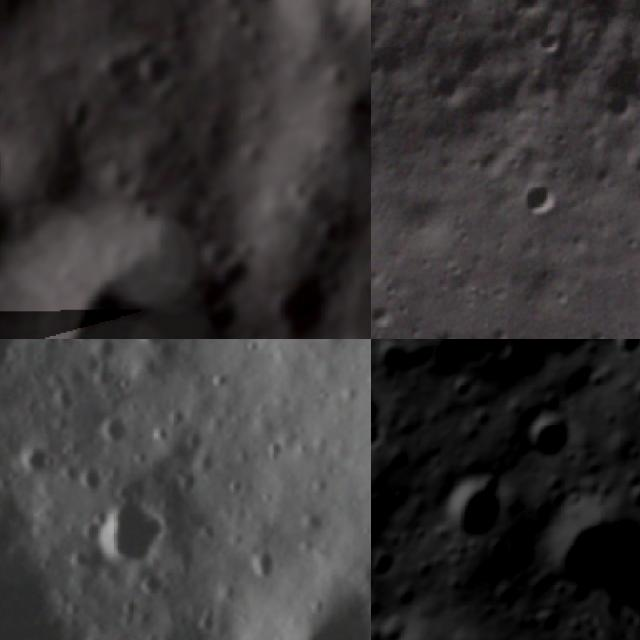crater: (9, 224, 280, 339), (529, 488, 635, 611), (70, 473, 178, 580), (252, 548, 371, 640), (422, 460, 516, 551), (0, 161, 47, 301), (273, 266, 342, 339), (514, 398, 578, 473), (515, 167, 574, 227), (2, 430, 63, 486), (235, 530, 289, 589), (87, 403, 143, 458), (595, 79, 640, 132), (339, 74, 371, 146), (69, 453, 112, 502), (135, 48, 178, 93), (474, 528, 518, 568), (0, 127, 22, 198), (378, 340, 418, 376), (371, 541, 403, 584), (80, 339, 124, 369), (387, 0, 452, 20), (132, 190, 167, 225), (102, 161, 136, 195), (60, 102, 92, 136), (371, 378, 387, 441), (371, 421, 392, 455), (608, 339, 640, 361), (524, 625, 570, 640), (623, 372, 640, 412), (558, 443, 580, 472), (584, 369, 610, 393), (231, 0, 286, 10), (128, 339, 174, 349)
